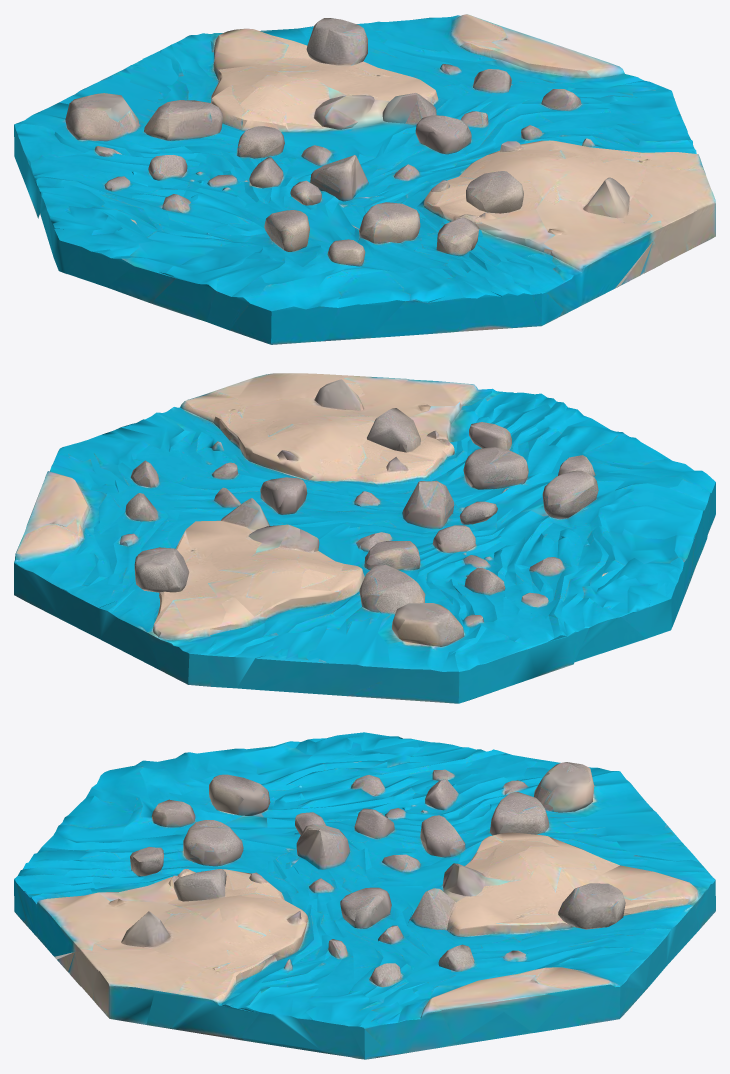
File: fiume.glb
The picture shows the model from 3 angles, top to bottom: view 1: azimuth 30°, elevation 25°; view 2: azimuth 150°, elevation 25°; view 3: azimuth 270°, elevation 25°; orthographic projection.
Size of the model in its own units: 1.9 by 0.2058 by 1.9.
1 material, 1 textured.
